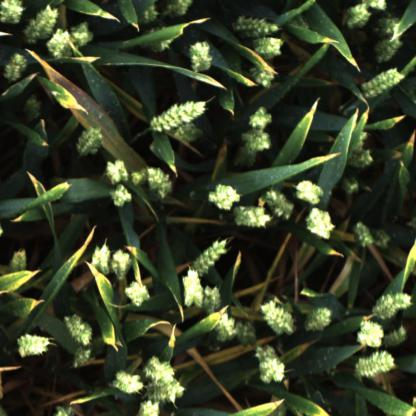whd: (145, 99, 206, 130), (191, 235, 235, 272), (358, 68, 403, 100), (260, 298, 295, 338), (353, 349, 396, 381), (255, 346, 286, 386), (375, 290, 415, 320), (62, 310, 94, 347), (136, 28, 181, 54), (23, 5, 58, 38), (13, 330, 52, 359), (262, 187, 295, 220), (302, 207, 334, 241), (232, 203, 271, 230), (180, 266, 204, 308), (232, 16, 282, 36), (207, 182, 242, 210), (75, 125, 106, 156), (301, 305, 334, 334), (90, 240, 116, 276), (146, 166, 175, 198), (210, 313, 238, 346), (148, 377, 188, 400), (186, 40, 214, 71), (110, 246, 135, 280), (144, 354, 173, 383), (356, 319, 386, 347), (369, 37, 404, 61), (294, 179, 326, 205), (47, 30, 74, 60), (111, 370, 143, 395), (246, 104, 274, 132), (345, 3, 372, 32), (66, 20, 95, 47), (124, 280, 150, 310), (4, 50, 28, 82), (240, 129, 272, 152), (252, 38, 285, 60), (234, 318, 258, 348), (345, 147, 376, 170), (201, 284, 224, 315), (104, 158, 129, 185), (250, 67, 277, 90), (383, 325, 410, 348), (7, 248, 30, 274), (351, 221, 373, 248), (232, 147, 260, 168), (0, 1, 25, 24), (108, 185, 134, 207), (136, 3, 158, 28), (22, 96, 43, 122), (165, 1, 193, 20), (176, 125, 202, 144), (340, 174, 362, 196), (372, 228, 393, 251), (378, 15, 402, 34), (72, 347, 93, 368), (136, 400, 163, 416), (128, 166, 148, 186), (363, 0, 388, 12)
